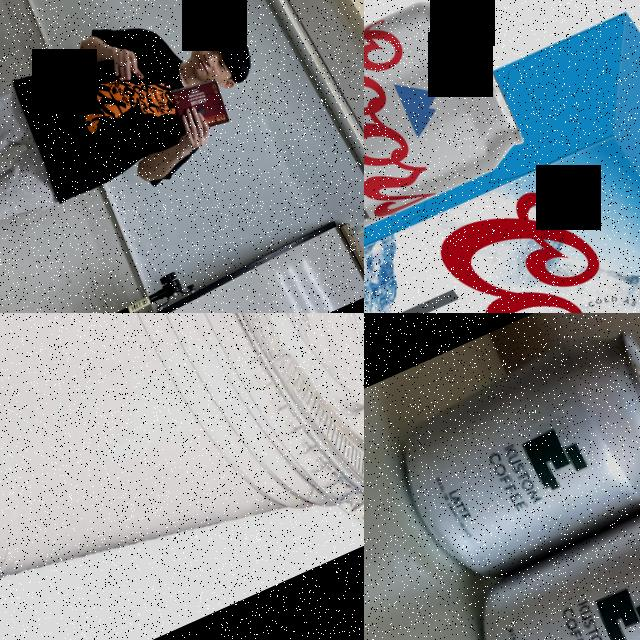can: (374, 313, 640, 601), (364, 0, 531, 313), (453, 485, 640, 640)
cup: (0, 313, 364, 640)
